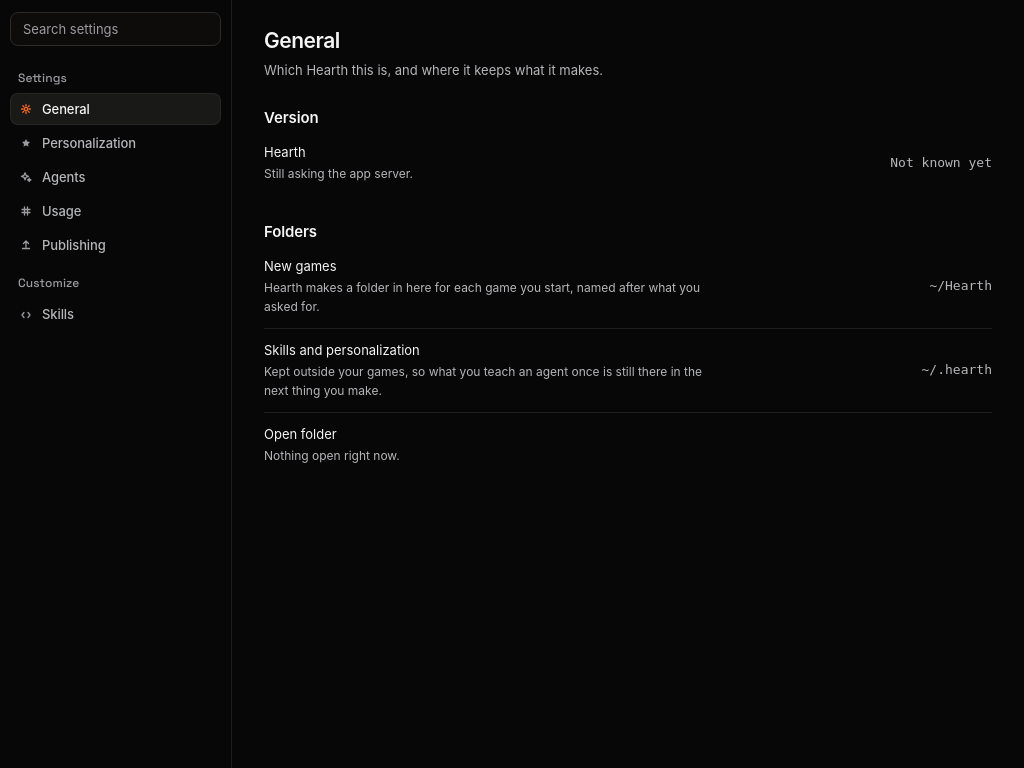
the panel › says so instead of showing an empty rail
The width and height of the screenshot is (1024, 768).
Type "kerning" into the search field labelled "Search settings".
click(116, 29); type("kerning")  # box [10,12,221,46]
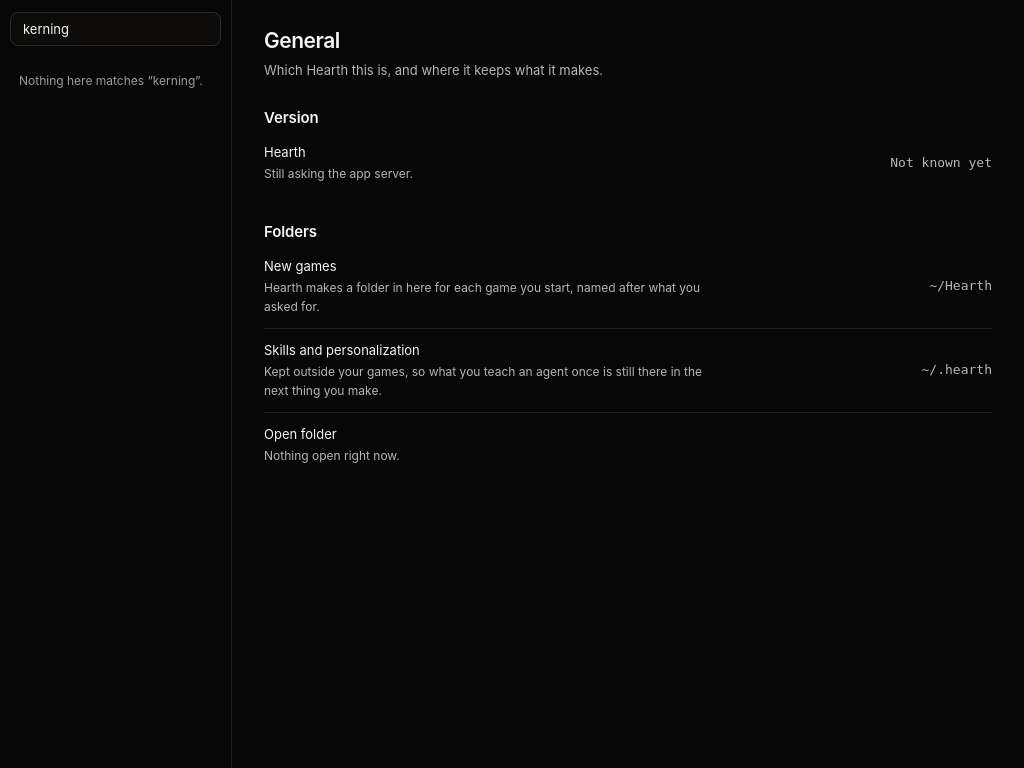
Now the text "Nothing here matches “kerning”." is shown, box [19,72,212,90]
